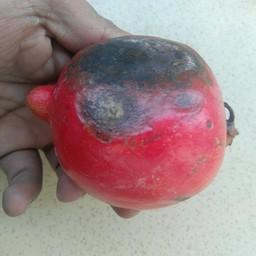Bad_pomegranate: (31, 37, 235, 212)
